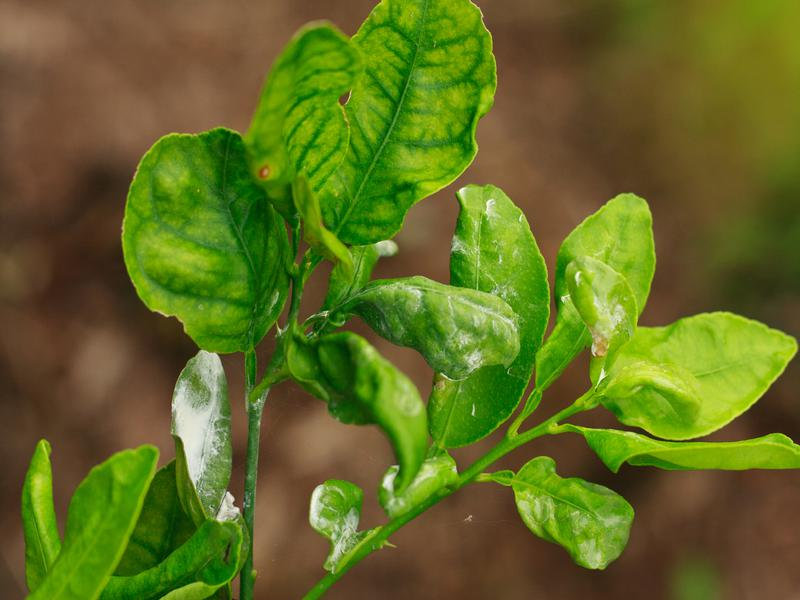Mealy_bug: (162, 345, 261, 513)
